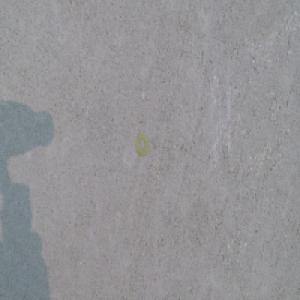Washer: (134, 132, 148, 157)
